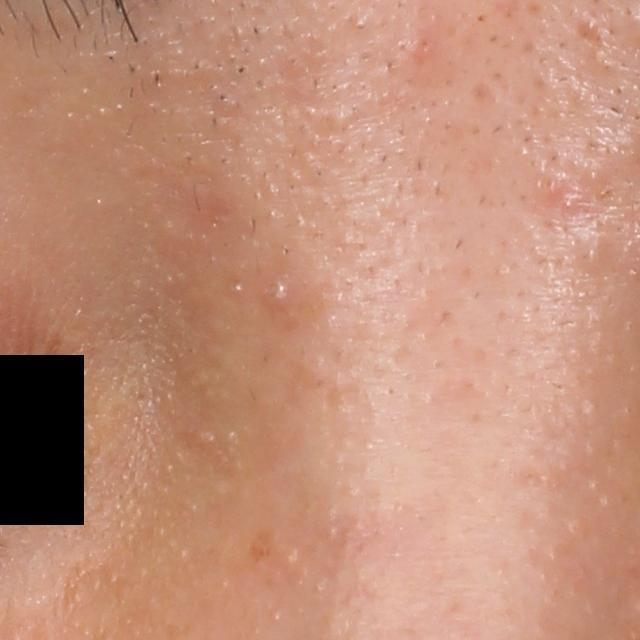melasma: (246, 537, 275, 565)
